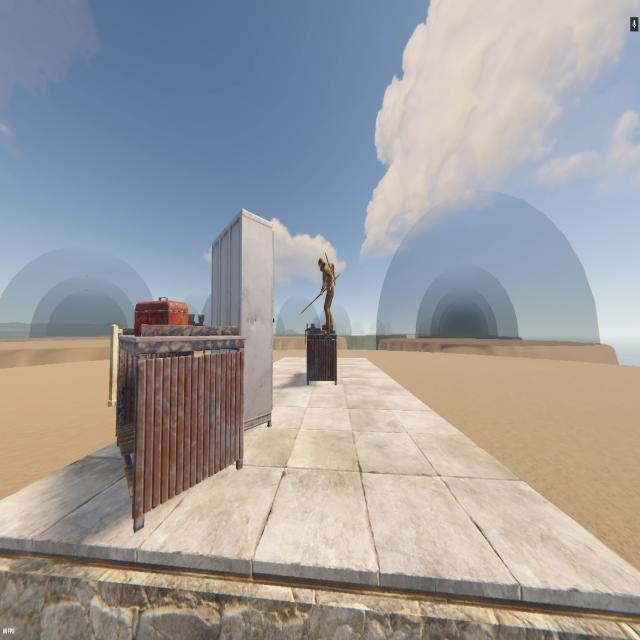Player: (318, 255, 338, 334)
